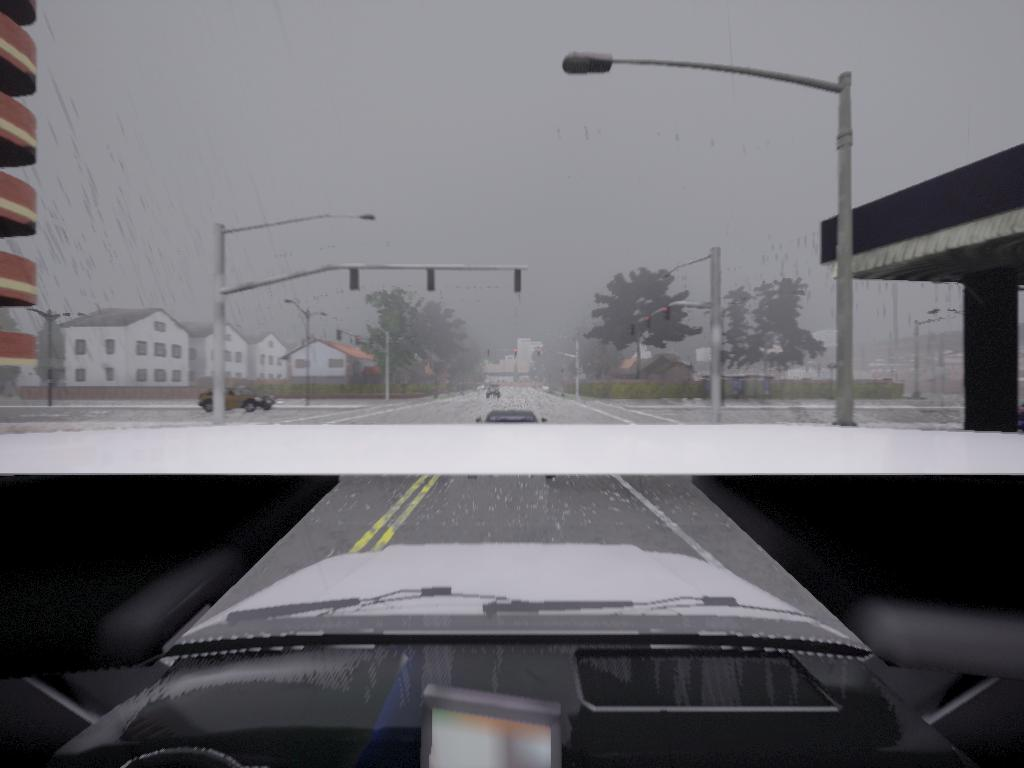traffic_light: (566, 52, 616, 75), (349, 267, 360, 292), (515, 271, 525, 295), (427, 269, 437, 292), (665, 307, 672, 323), (646, 317, 652, 330), (630, 326, 637, 337), (537, 348, 543, 360), (514, 349, 519, 359), (489, 350, 491, 357)
